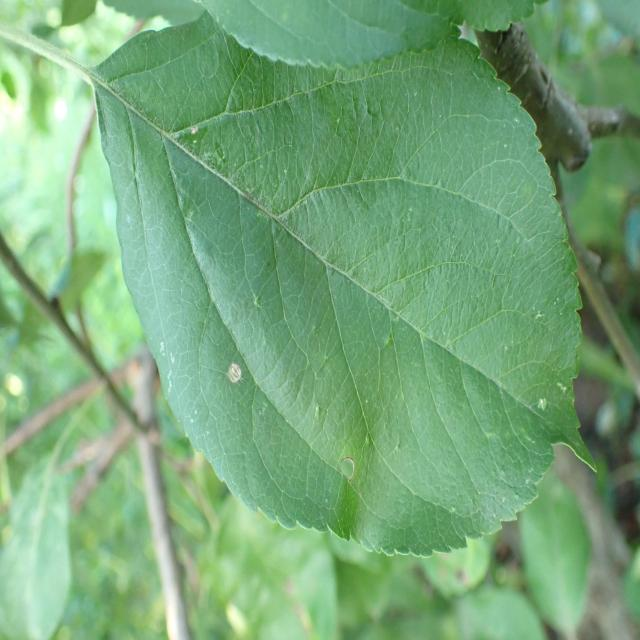frog-eye-leaf-spot: (88, 10, 595, 560)
